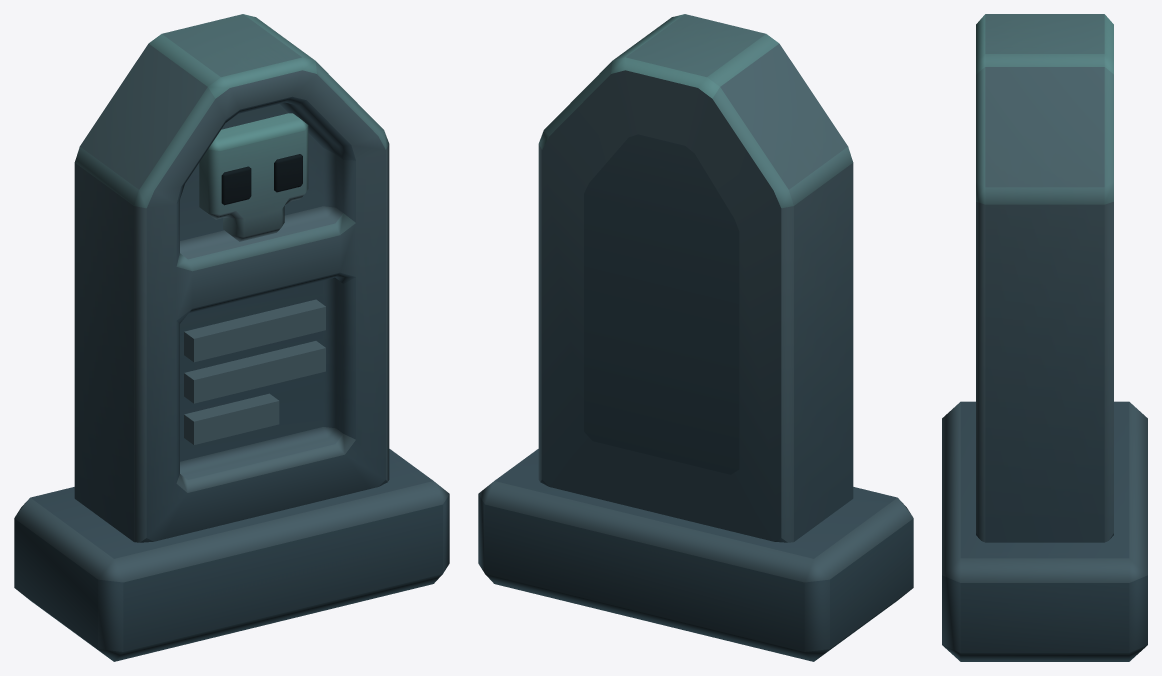
File: grave_stone_3.fbx
3 renders of one model, left to right at view 1: azimuth 30°, elevation 25°; view 2: azimuth 150°, elevation 25°; view 3: azimuth 270°, elevation 25°, orthographic.
Visible parts, largest first — view 1: grave_stone_3; view 2: grave_stone_3; view 3: grave_stone_3.
Boxes of the visible parts, x1,y1,x2,y2 form: grave_stone_3: [14, 14, 449, 661]; grave_stone_3: [478, 14, 913, 661]; grave_stone_3: [942, 14, 1147, 661].
Size of the model in its own units: 132 by 195 by 66.3.
